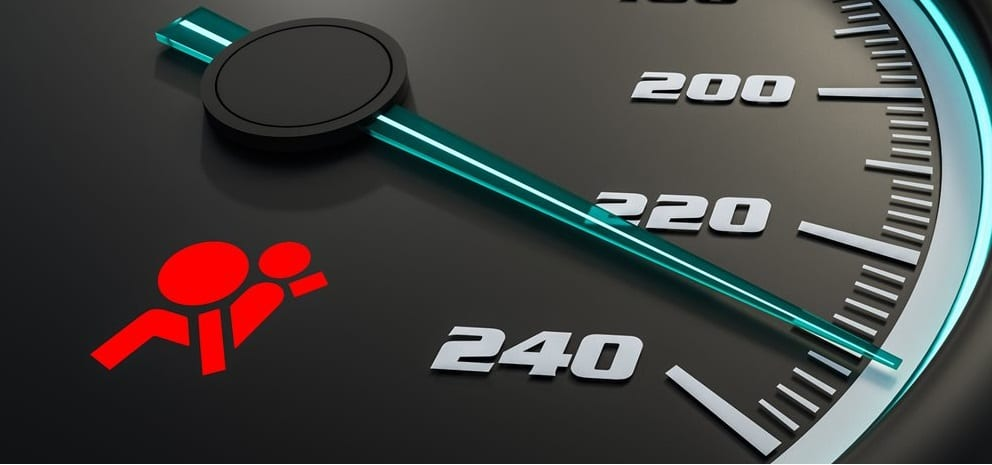Airbag_warning: (86, 229, 337, 384)
